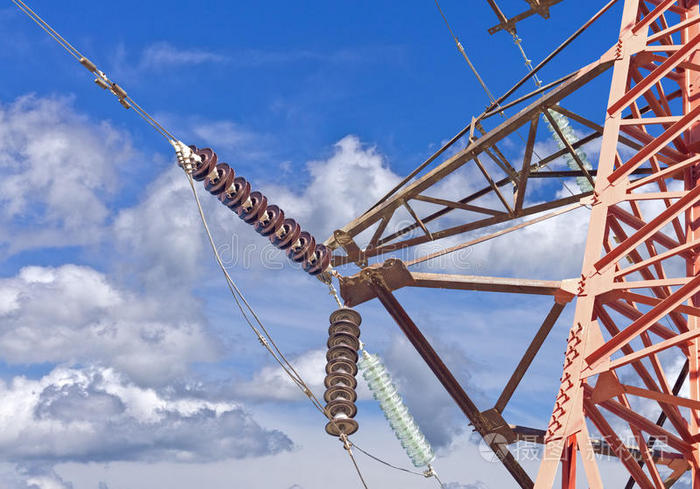insulator: (185, 147, 332, 275), (359, 353, 433, 469), (324, 306, 365, 438), (542, 103, 595, 190)
